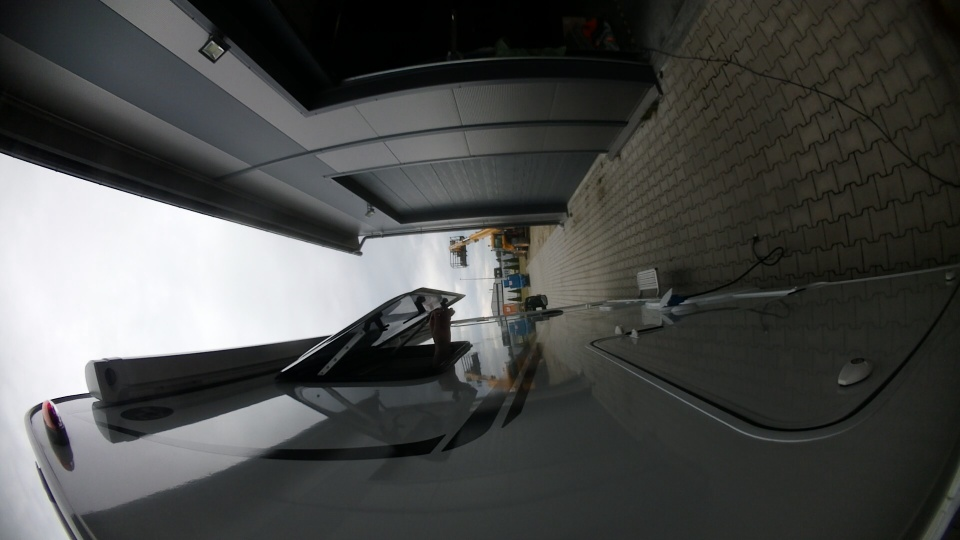step_back: (631, 265, 664, 300)
window_back: (271, 277, 485, 387)
